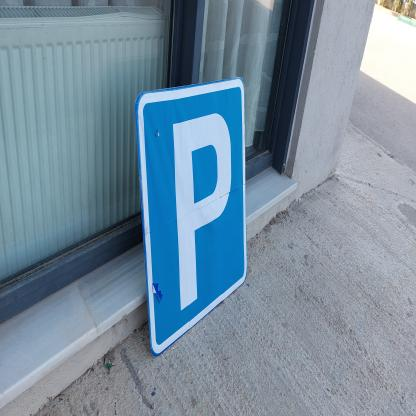Parking-Sign: (136, 78, 251, 369)
